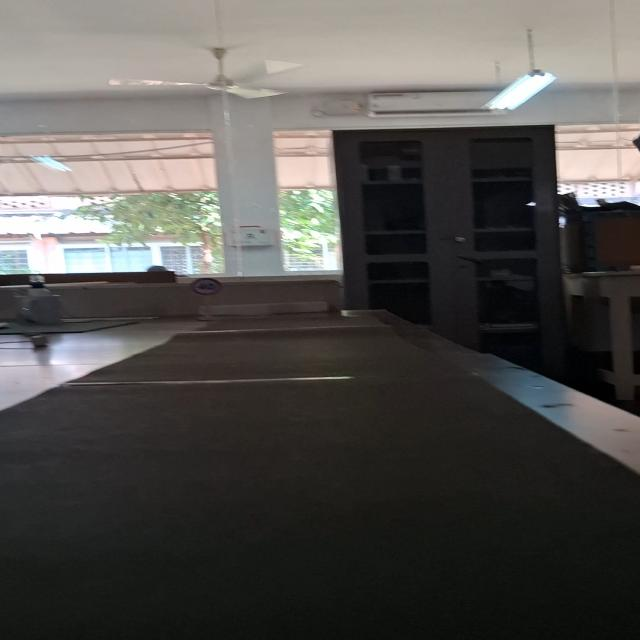Speed40: (190, 277, 224, 296)
